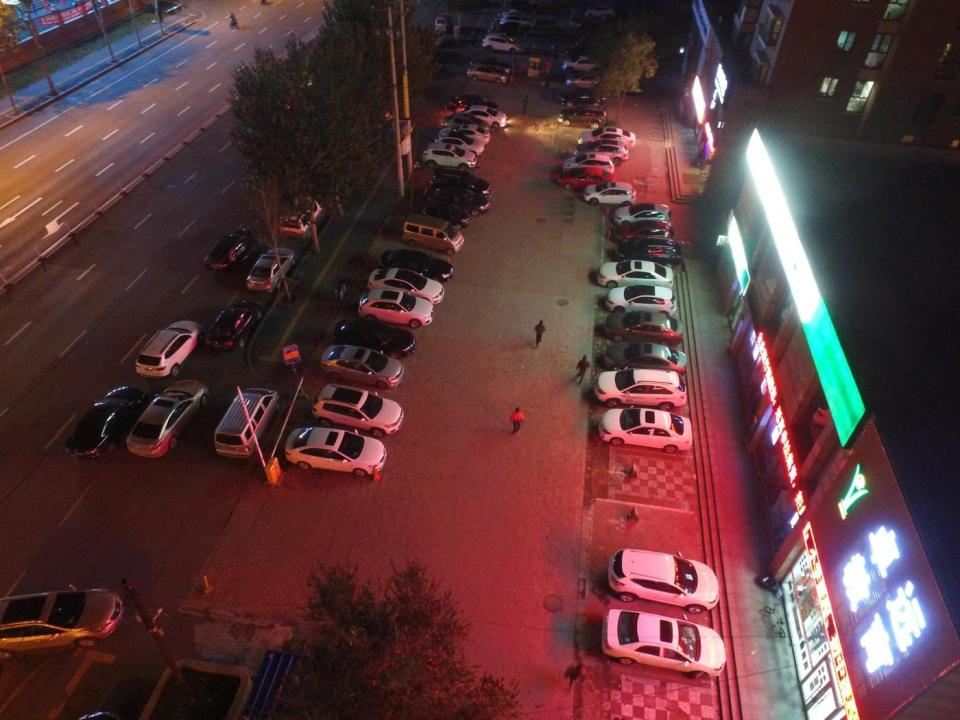car: (1, 584, 123, 663), (602, 609, 726, 680), (606, 547, 719, 614), (127, 378, 210, 458), (65, 384, 150, 461), (285, 428, 387, 476), (312, 384, 403, 437), (599, 405, 692, 454), (595, 366, 687, 410), (132, 320, 204, 376), (320, 344, 403, 390), (334, 318, 416, 359), (204, 299, 262, 352), (358, 288, 434, 328), (604, 340, 686, 376), (369, 267, 444, 304), (203, 228, 263, 272), (606, 310, 684, 343), (381, 249, 453, 284), (606, 284, 677, 318), (424, 182, 490, 216), (598, 260, 674, 289), (248, 247, 296, 292), (616, 236, 682, 268), (433, 166, 490, 198), (423, 142, 477, 170), (580, 126, 636, 151), (614, 203, 671, 227), (424, 201, 470, 230), (583, 181, 636, 206), (614, 221, 674, 243), (575, 140, 628, 164), (455, 104, 508, 128), (558, 168, 615, 190), (564, 153, 614, 176), (434, 132, 483, 155), (558, 106, 608, 128), (438, 123, 490, 144), (558, 88, 606, 109), (448, 96, 498, 116), (442, 112, 491, 132), (465, 62, 507, 84), (483, 33, 523, 55), (565, 70, 610, 89), (470, 57, 511, 75), (562, 56, 608, 72), (498, 14, 532, 29), (568, 5, 584, 29), (586, 5, 614, 18), (502, 10, 532, 21), (436, 13, 452, 31), (500, 21, 526, 32)
van: (215, 388, 279, 460), (402, 213, 464, 255), (280, 192, 328, 239)
